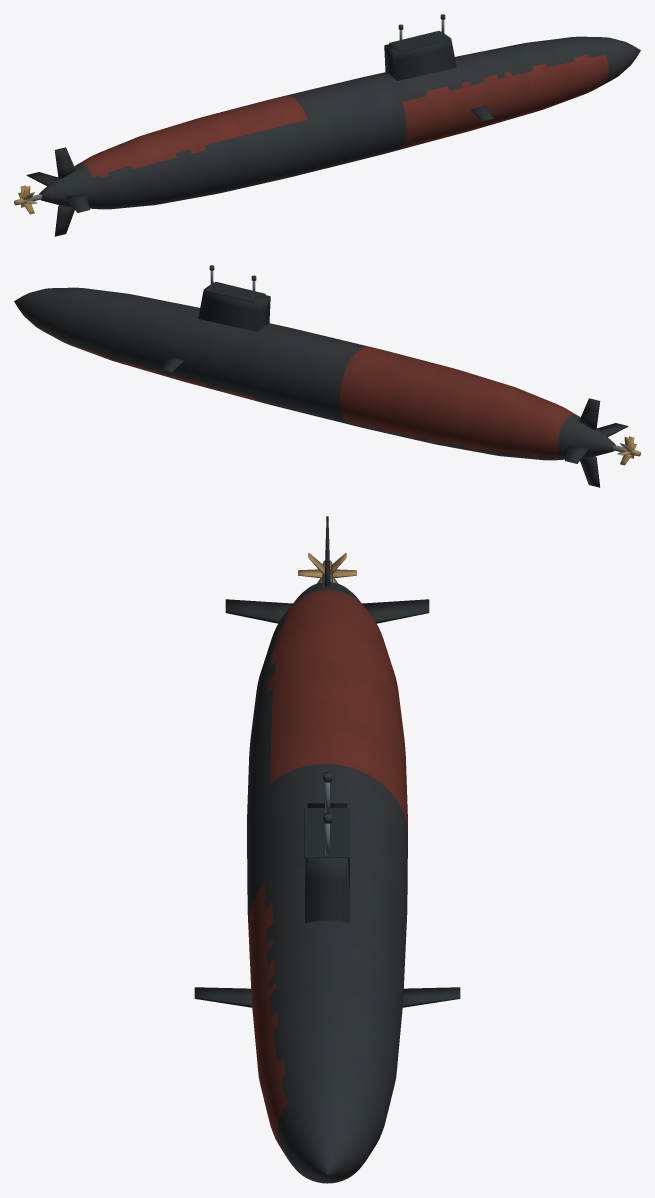
The model's file is UK_SSN_Valiant.glb.
The picture shows the model from 3 angles, top to bottom: view 1: azimuth 30°, elevation 25°; view 2: azimuth 150°, elevation 25°; view 3: azimuth 270°, elevation 25°; orthographic projection. The views are drawn at different scales.
Parts seen in each view (by area): view 1: UK_SSN_Valiant_LOD0; view 2: UK_SSN_Valiant_LOD0; view 3: UK_SSN_Valiant_LOD0.
Boxes of the visible parts, x1,y1,x2,y2 form: UK_SSN_Valiant_LOD0: (14,14,640,236); UK_SSN_Valiant_LOD0: (14,265,640,487); UK_SSN_Valiant_LOD0: (194,516,460,1183).
Bounding box in the file's own units: 90.75 × 17.55 × 16.7.
6 materials, 1 textured.
